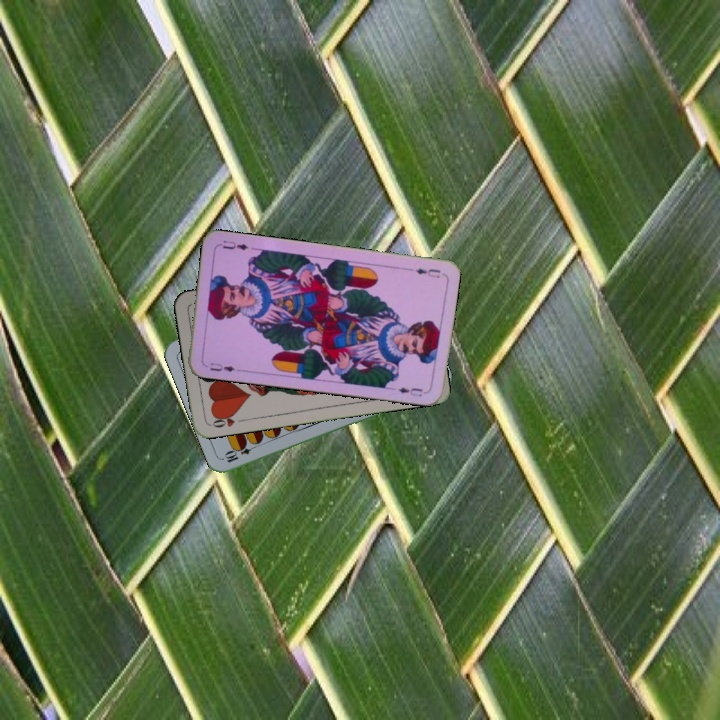E10: (221, 440, 260, 465)
EU: (206, 359, 242, 375), (412, 264, 443, 280)
HO: (207, 409, 247, 430)
